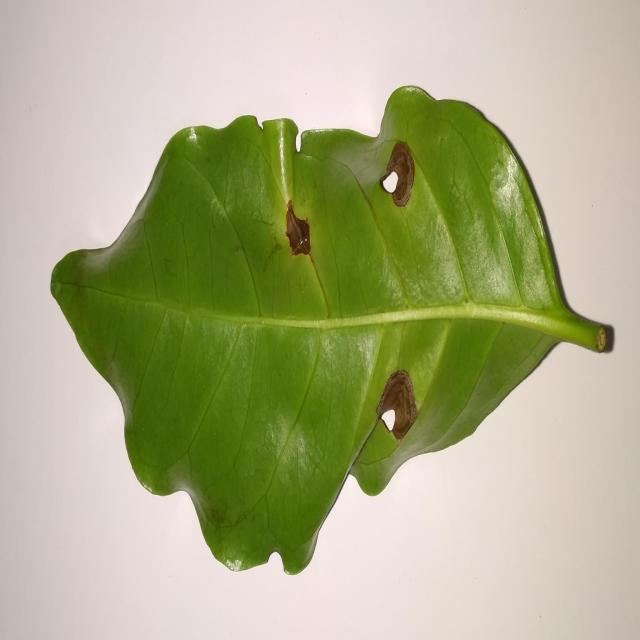Enfermedad-Antracnosis: (48, 86, 617, 578)
